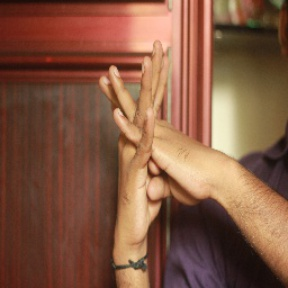W: (88, 33, 218, 218)
